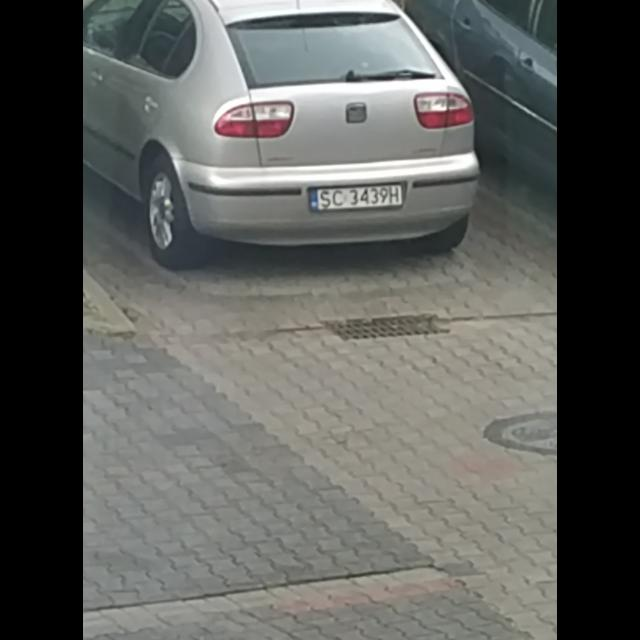pl_license_plate: (311, 185, 401, 209)
